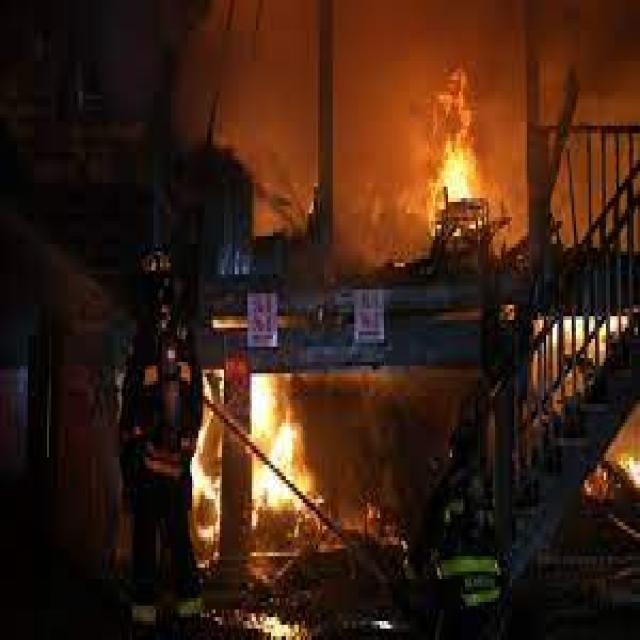Fire: (187, 0, 640, 183), (257, 390, 305, 550), (436, 122, 476, 227), (194, 444, 220, 534)
